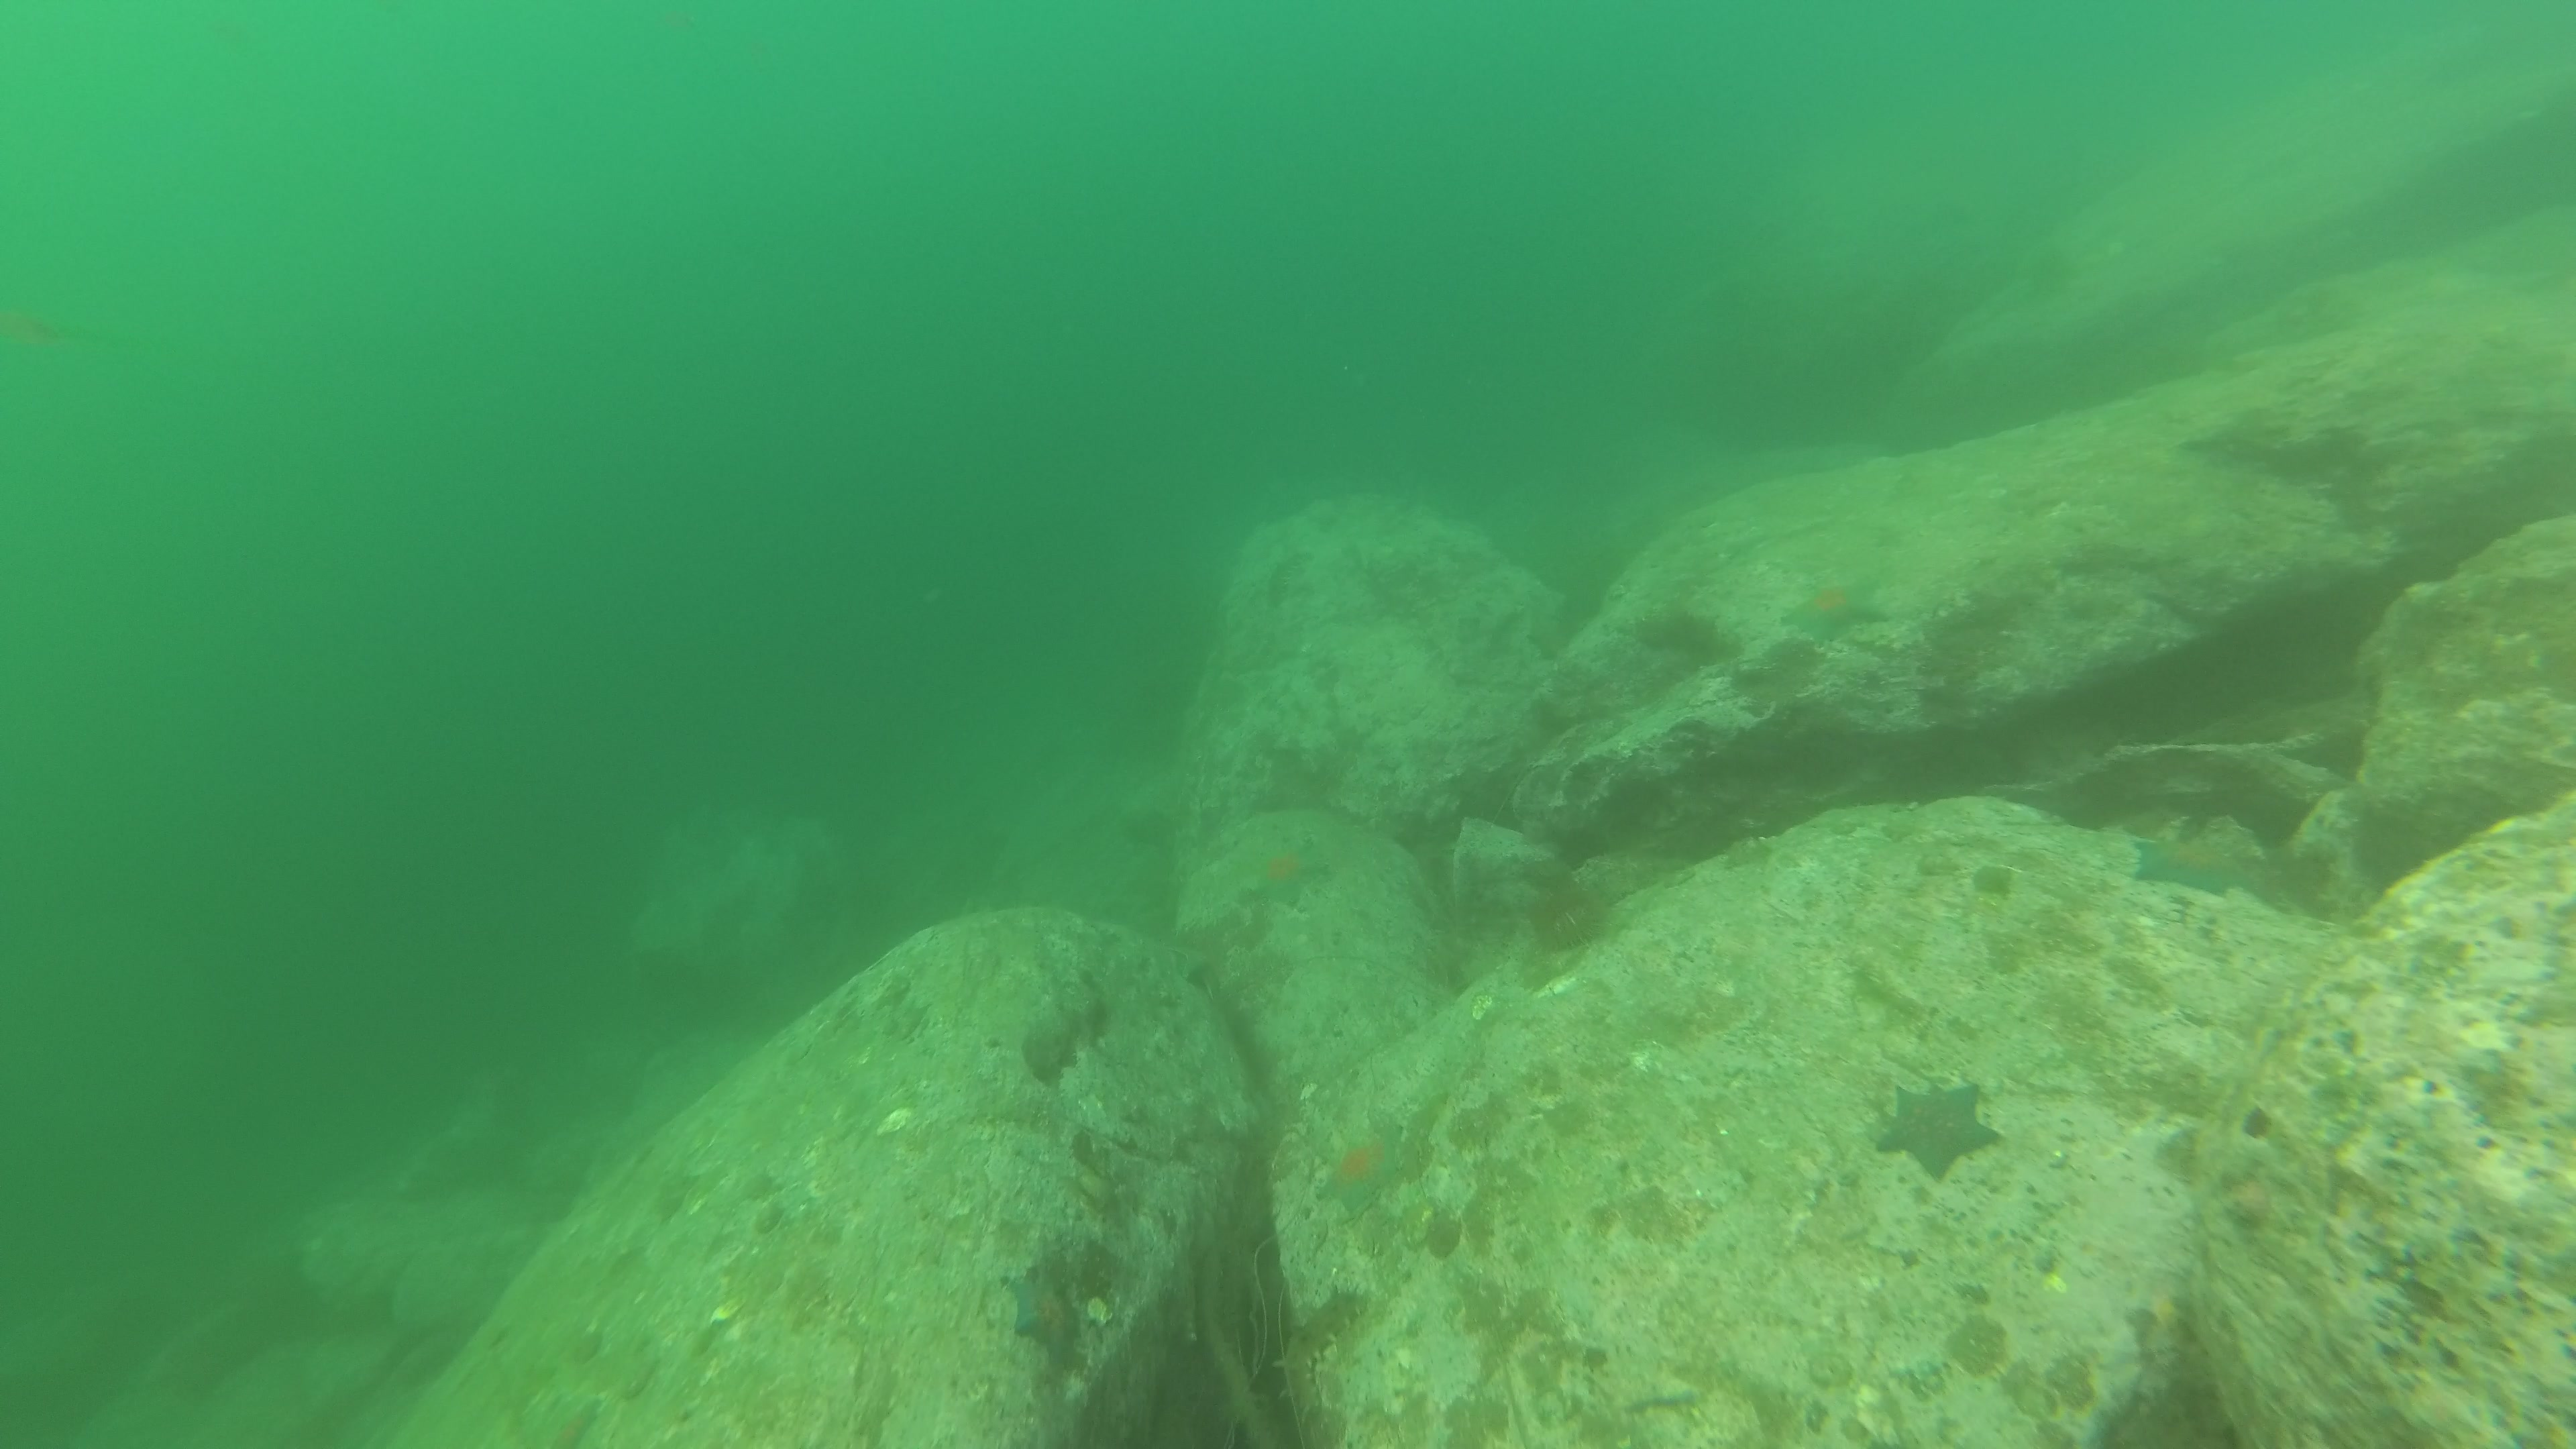echinus: (1534, 879, 1610, 954)
holothurian: (1274, 1283, 1371, 1447)
starfish: (1879, 1085, 2003, 1180), (1318, 1123, 1407, 1226), (1783, 582, 1886, 648), (1008, 1277, 1085, 1361), (2135, 839, 2240, 899), (1251, 847, 1330, 906)
